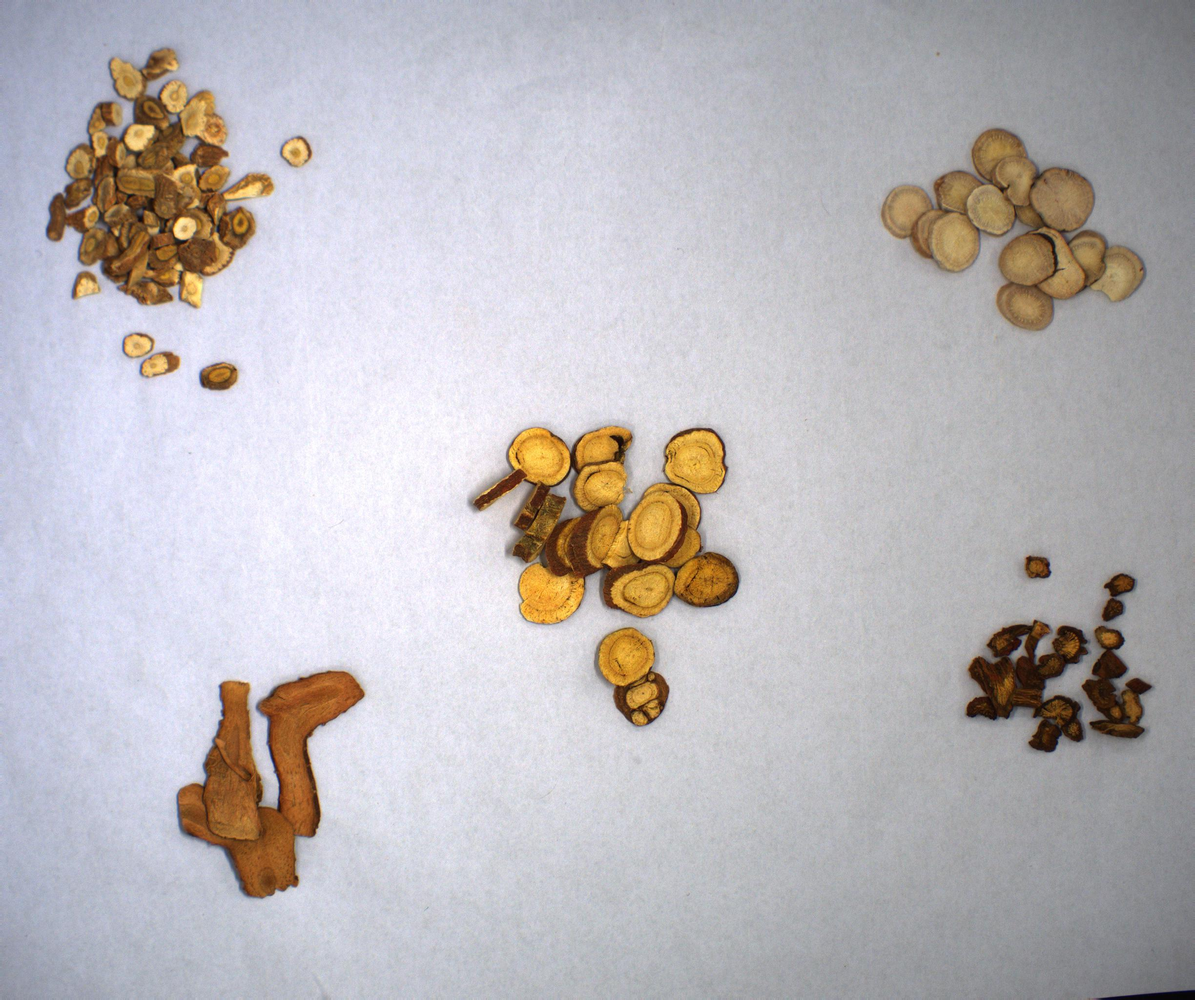baishao: (852, 84, 1166, 358)
banlangen: (29, 22, 363, 408)
danshen: (950, 509, 1169, 810)
gancaopian: (451, 396, 826, 774)
gaoliangjiang: (155, 642, 412, 938)
